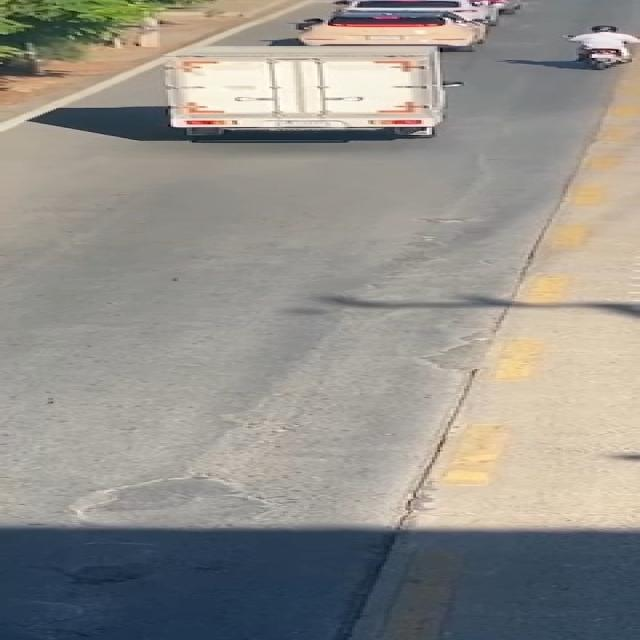car: (148, 41, 506, 144), (274, 8, 510, 50)
